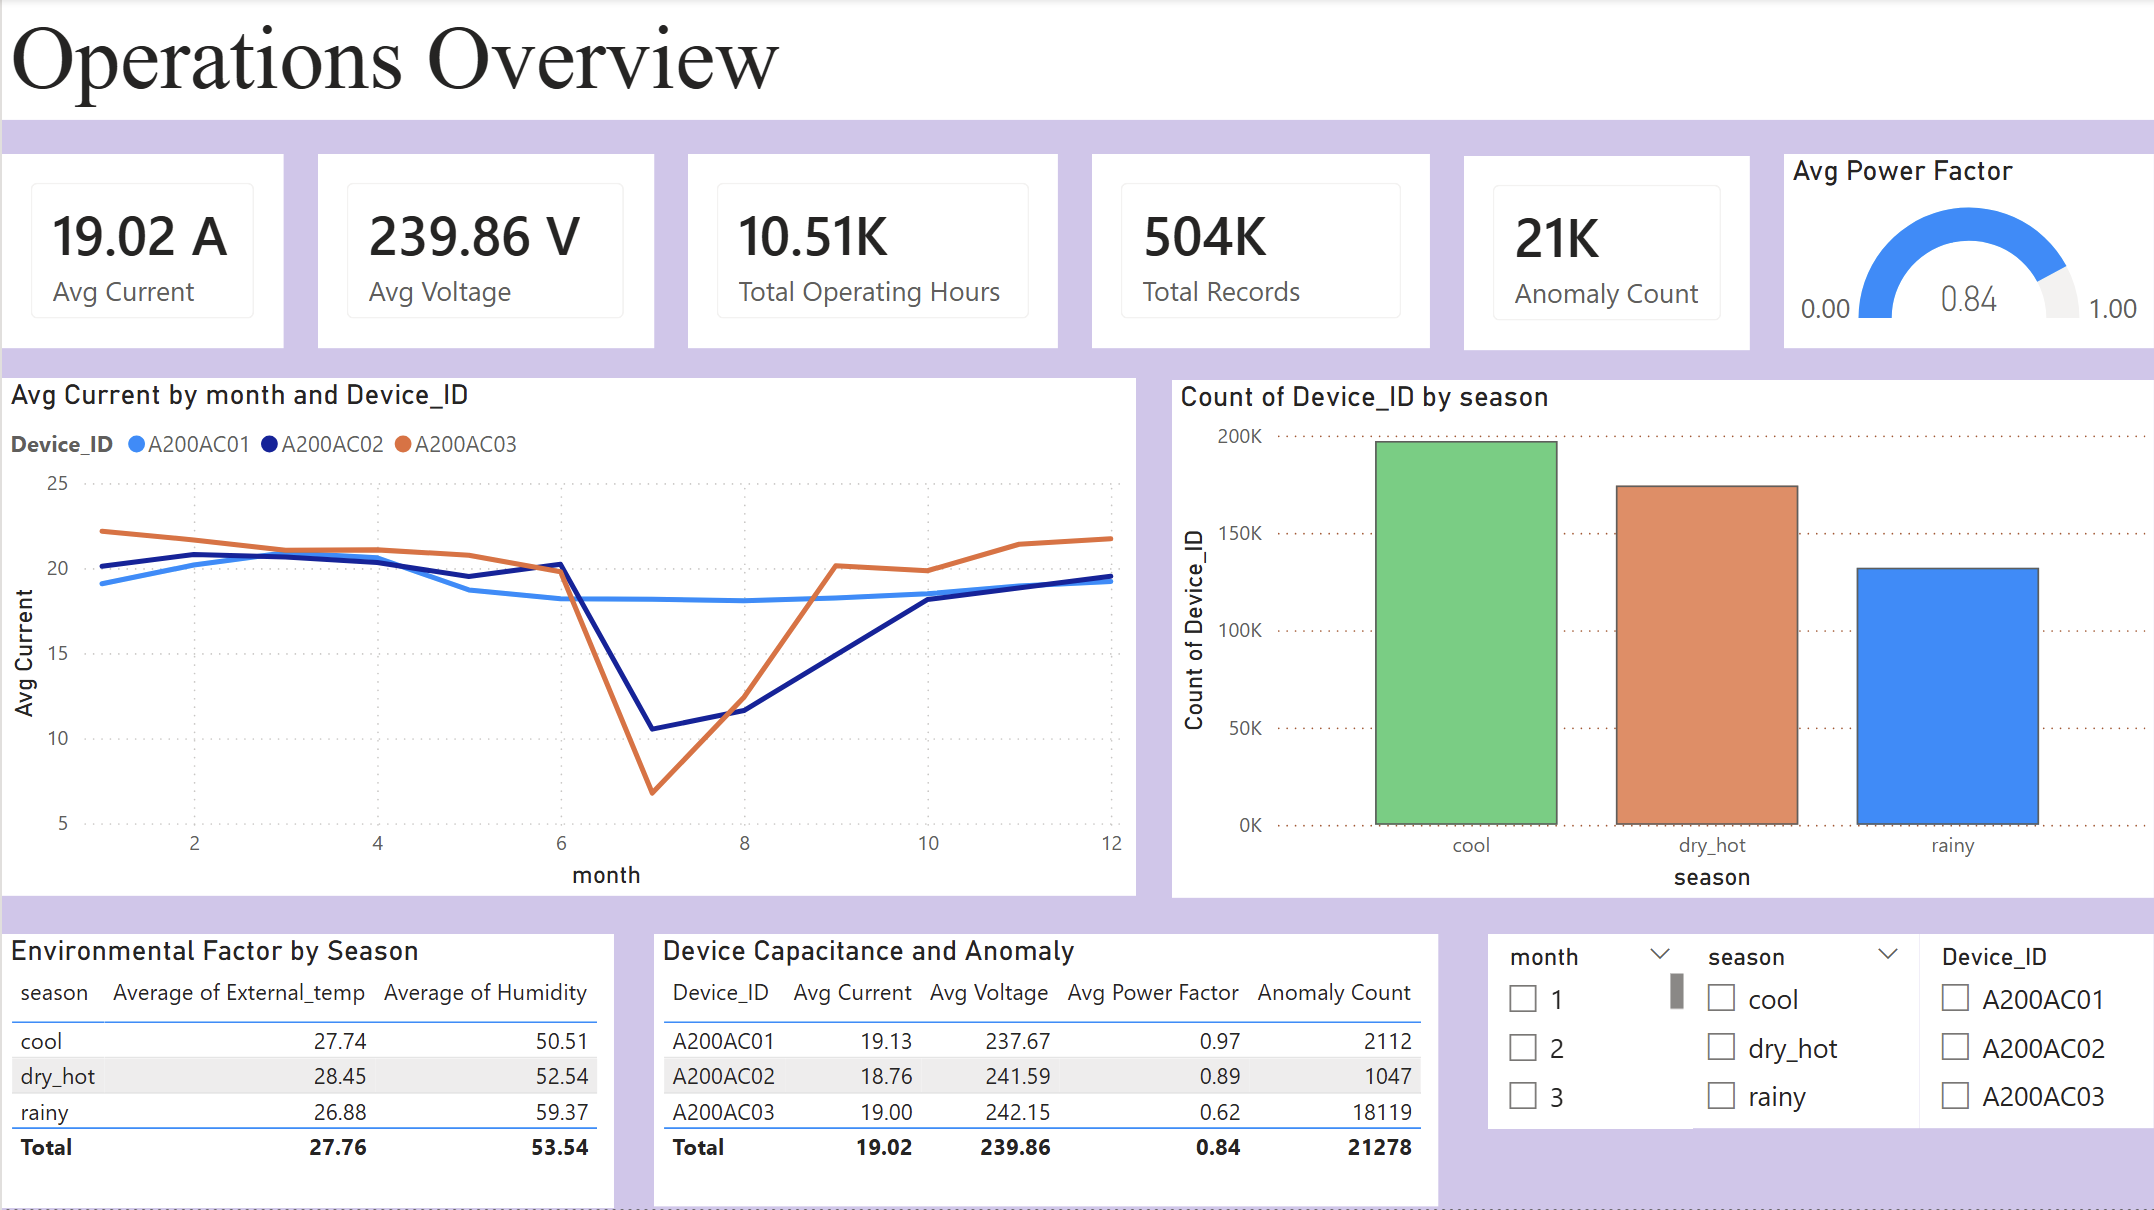

The dashboard page shown, as its layout file describes it:
{"tool":"powerbi","page":{"name":"Comprehensive view","canvas":[1280,720],"ordinal":0},"visuals":[{"type":"cardVisual","fields":{"Data":["Measure.Avg Power Factor"]},"box":[577,83.3,220.1,115.4],"z":0},{"type":"cardVisual","fields":{"Data":["Measure.Avg Current"]},"box":[0,83.3,167.7,115.4],"z":1000},{"type":"cardVisual","fields":{"Data":["Measure.Anomaly Count"]},"box":[179.6,83.3,170.1,115.4],"z":2000},{"type":"cardVisual","fields":{"Data":["Measure.Total Operating Hours"]},"box":[813.7,83.3,220.1,115.4],"z":3000},{"type":"lineChart","fields":{"Y":["Measure.Avg Current"],"Series":["Goa_A200_AC_unit_performance_clean.Device_ID"],"Category":["Goa_A200_AC_unit_performance_clean.month"]},"box":[0,226,674.5,308.1],"z":4000},{"type":"columnChart","fields":{"Category":["Goa_A200_AC_unit_performance_clean.season"],"Y":["CountNonNull(Goa_A200_AC_unit_performance_clean.Device_ID)"]},"box":[695.9,227.2,584.1,308.1],"z":5000},{"type":"tableEx","title":"Device Capacitance and Anomaly","fields":{"Values":["Goa_A200_AC_unit_performance_clean.Device_ID","Measure.Avg Current","Measure.Avg Power Factor","Avg(Goa_A200_AC_unit_performance_clean.voltage)","Measure.Anomaly Count"]},"box":[374.7,556.7,498.4,161.8],"z":6000},{"type":"tableEx","title":"Environmental Factor by Season","fields":{"Values":["Goa_A200_AC_unit_performance_clean.season","Avg(Goa_A200_AC_unit_performance_clean.External_temp)","Avg(Goa_A200_AC_unit_performance_clean.Humidity)"]},"box":[0,556.7,364,163],"z":7000},{"type":"slicer","fields":{"Values":["Goa_A200_AC_unit_performance_clean.month"]},"box":[883.9,603.1,121.3,115.4],"z":8000},{"type":"slicer","fields":{"Values":["Goa_A200_AC_unit_performance_clean.Device_ID"]},"box":[1140.8,603.1,139.2,117.8],"z":9000},{"type":"slicer","fields":{"Values":["Goa_A200_AC_unit_performance_clean.season"]},"box":[1005.2,603.1,139.2,115.4],"z":10000},{"type":"textbox","box":[0,0,1280,72.6],"z":10001},{"type":"cardVisual","title":"hhh","fields":{"Data":["Avg(Goa_A200_AC_unit_performance_clean.voltage)"]},"box":[364,83.3,199.9,115.4],"z":10002},{"type":"cardVisual","fields":{"Data":["Goa_A200_AC_unit_performance_clean.Total Records"]},"box":[1052.8,83.3,201,115.4],"z":10003}]}

Visuals, with their boxes in screenshot pixels (x1, y1, x2, y2), scaled from the page's 1280x720 canvas onto the 2154x1210 screenshot:
cardVisual - Measure.Avg Power Factor: box=[971, 140, 1341, 334]
cardVisual - Measure.Avg Current: box=[0, 140, 282, 334]
cardVisual - Measure.Anomaly Count: box=[302, 140, 588, 334]
cardVisual - Measure.Total Operating Hours: box=[1369, 140, 1740, 334]
lineChart - Measure.Avg Current x Goa_A200_AC_unit_performance_clean.Device_ID: box=[0, 380, 1135, 898]
columnChart - Goa_A200_AC_unit_performance_clean.season x CountNonNull(Goa_A200_AC_unit_performance_clean.Device_ID): box=[1171, 382, 2153, 900]
"Device Capacitance and Anomaly" tableEx: box=[631, 936, 1469, 1207]
"Environmental Factor by Season" tableEx: box=[0, 936, 613, 1209]
slicer - Goa_A200_AC_unit_performance_clean.month: box=[1487, 1014, 1692, 1207]
slicer - Goa_A200_AC_unit_performance_clean.Device_ID: box=[1920, 1014, 2153, 1209]
slicer - Goa_A200_AC_unit_performance_clean.season: box=[1692, 1014, 1926, 1207]
textbox: box=[0, 0, 2153, 122]
"hhh" cardVisual: box=[613, 140, 949, 334]
cardVisual - Goa_A200_AC_unit_performance_clean.Total Records: box=[1772, 140, 2110, 334]
